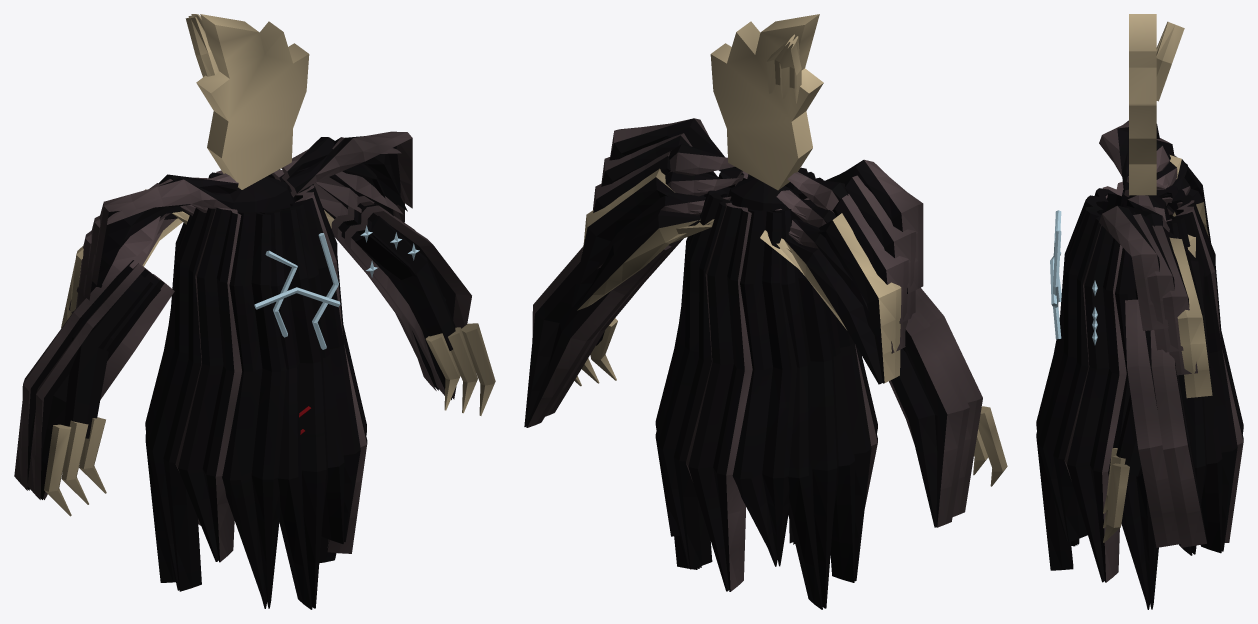
The model's file is the_unwritten.fbx.
3 views of the same model, side by side, from view 1: azimuth 30°, elevation 25°; view 2: azimuth 150°, elevation 25°; view 3: azimuth 270°, elevation 25° (orthographic). The views are drawn at different scales.
Parts seen in each view (by area): view 1: the_unwritten; view 2: the_unwritten; view 3: the_unwritten.
Part boxes in pixels (x1,y1,x2,y2): the_unwritten: (14, 14, 495, 609); the_unwritten: (524, 14, 1007, 609); the_unwritten: (1036, 14, 1243, 609).
Bounding box in the file's own units: 3.34 × 4.08 × 1.43.
